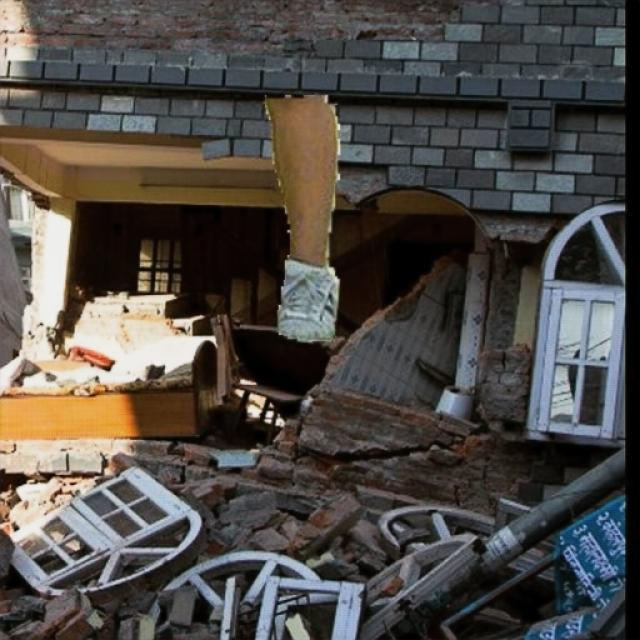Person in Rubble: (262, 92, 340, 342)
